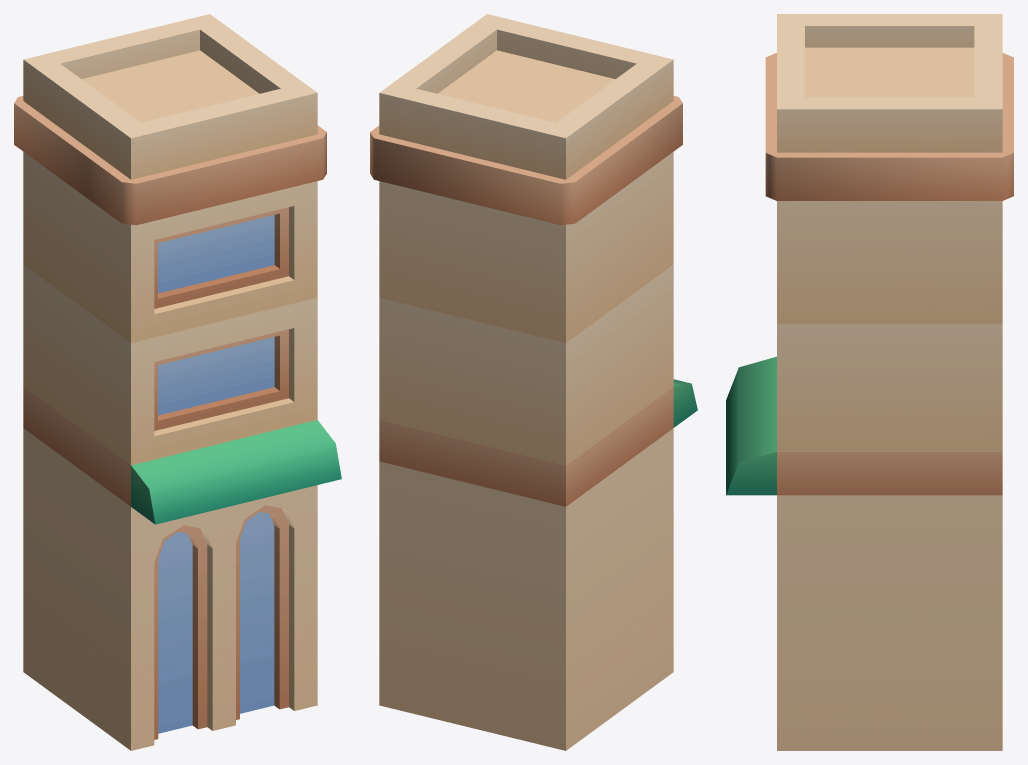
Rendered from bld-tower-c-4ecf008ded66.glb.
3 views of the same model, side by side, from view 1: azimuth 30°, elevation 25°; view 2: azimuth 150°, elevation 25°; view 3: azimuth 270°, elevation 25° (orthographic). The views are drawn at different scales.
Visible parts, largest first — view 1: building-sample-tower-c; view 2: building-sample-tower-c; view 3: building-sample-tower-c.
Boxes of the visible parts, left/top/right/bottom form: building-sample-tower-c: left=14, top=14, right=341, bottom=750; building-sample-tower-c: left=370, top=14, right=697, bottom=750; building-sample-tower-c: left=726, top=14, right=1013, bottom=750.
Size of the model in its own units: 3.74 by 10.67 by 4.34.
1 material, 1 textured.
